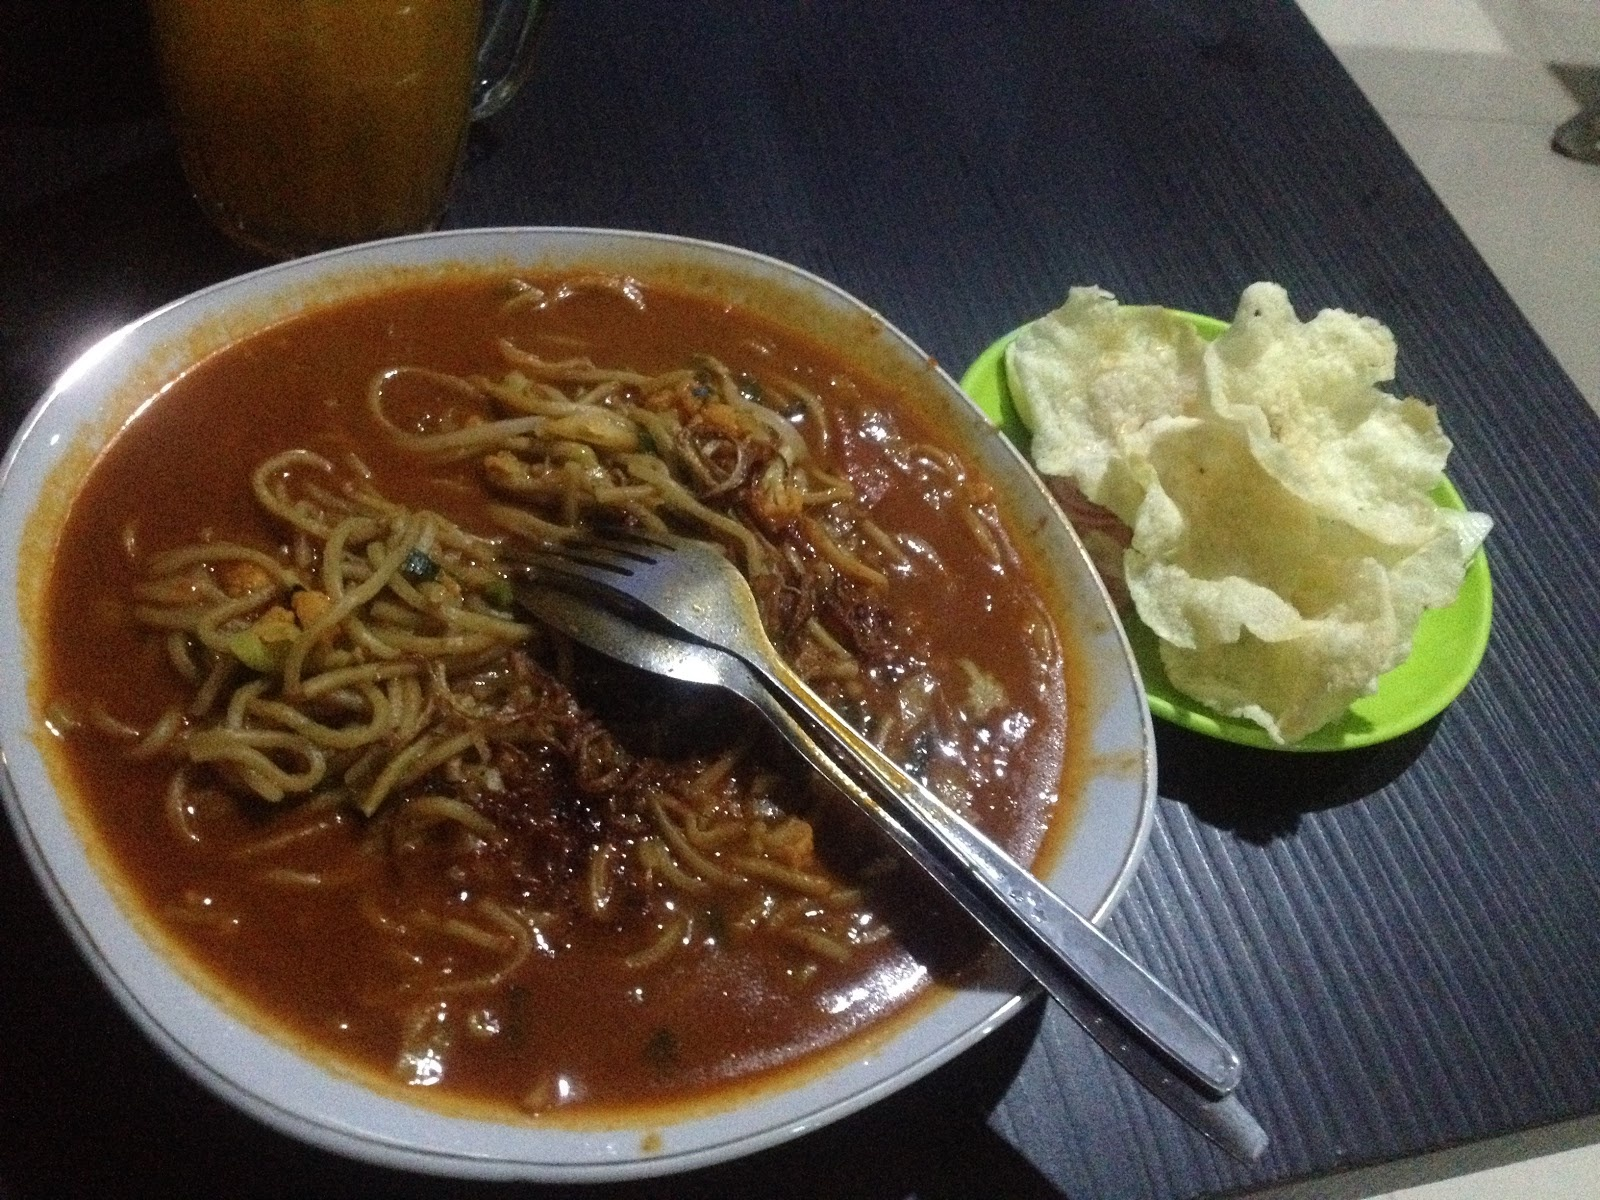mie_aceh: (47, 285, 1061, 1111)
